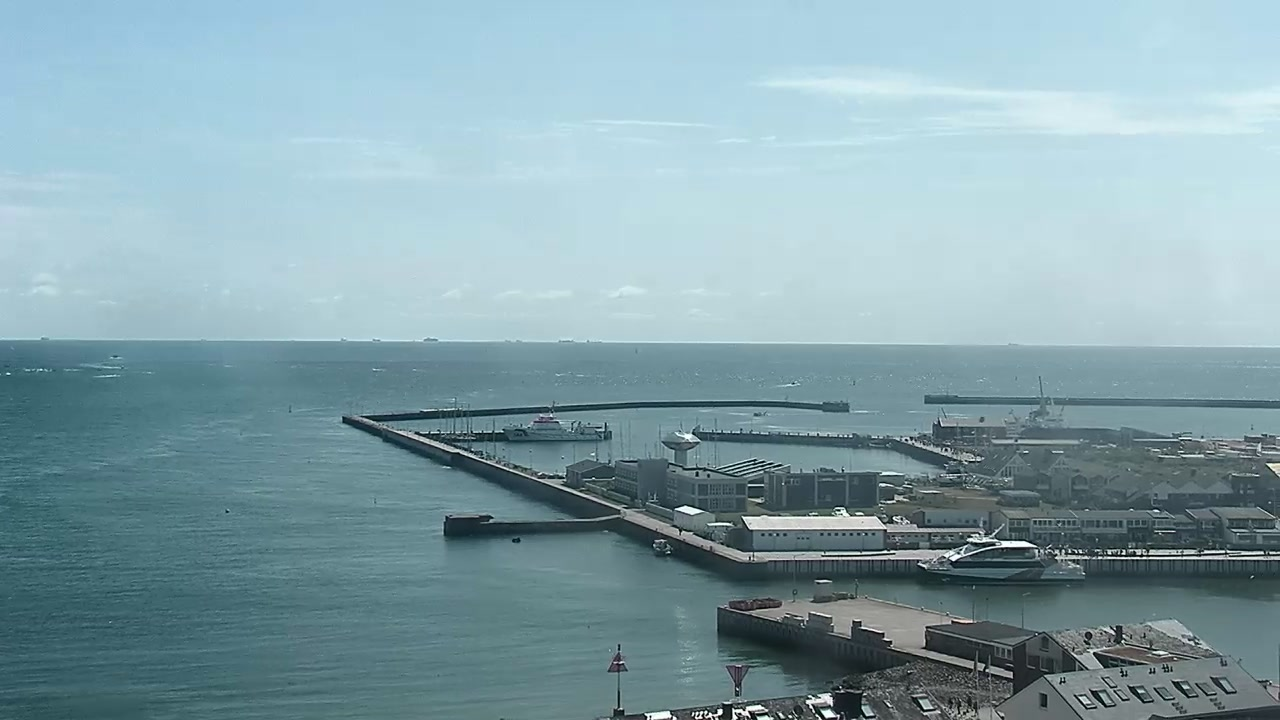human: (966, 693, 973, 714), (972, 699, 979, 717), (678, 527, 683, 536)
sea: (915, 515, 1086, 583), (501, 409, 605, 441), (652, 538, 674, 556), (423, 335, 440, 341), (40, 334, 50, 340), (340, 336, 348, 342), (793, 381, 799, 386)
